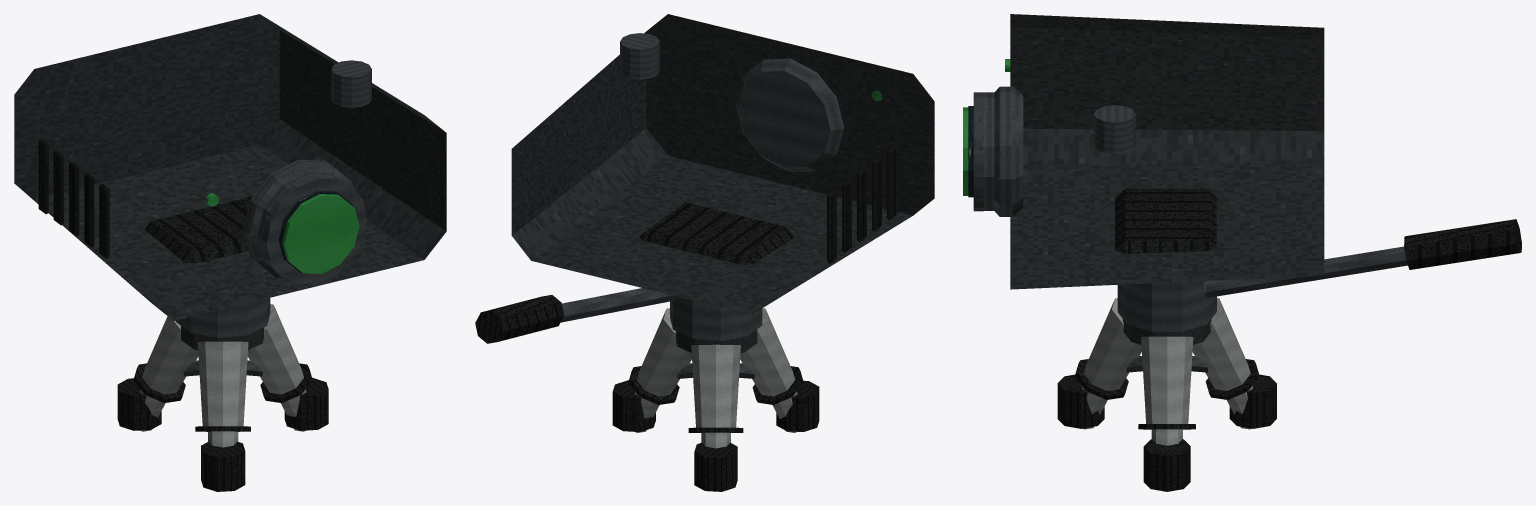
The model's file is blender_dots_projector_3_deployed.glb.
The picture shows the model from 3 angles, left to right: view 1: azimuth 30°, elevation 25°; view 2: azimuth 150°, elevation 25°; view 3: azimuth 270°, elevation 25°; orthographic projection. The views are drawn at different scales.
Parts seen in each view (by area): view 1: blender_dots_projector_3_deployed; view 2: blender_dots_projector_3_deployed; view 3: blender_dots_projector_3_deployed.
Boxes of the visible parts, box(x1,y1,x2,y2) form: blender_dots_projector_3_deployed: box(14, 14, 446, 491); blender_dots_projector_3_deployed: box(475, 14, 934, 491); blender_dots_projector_3_deployed: box(963, 14, 1521, 491).
Bounding box in the file's own units: 0.1358 × 0.1619 × 0.2135.
6 materials, 6 textured.
